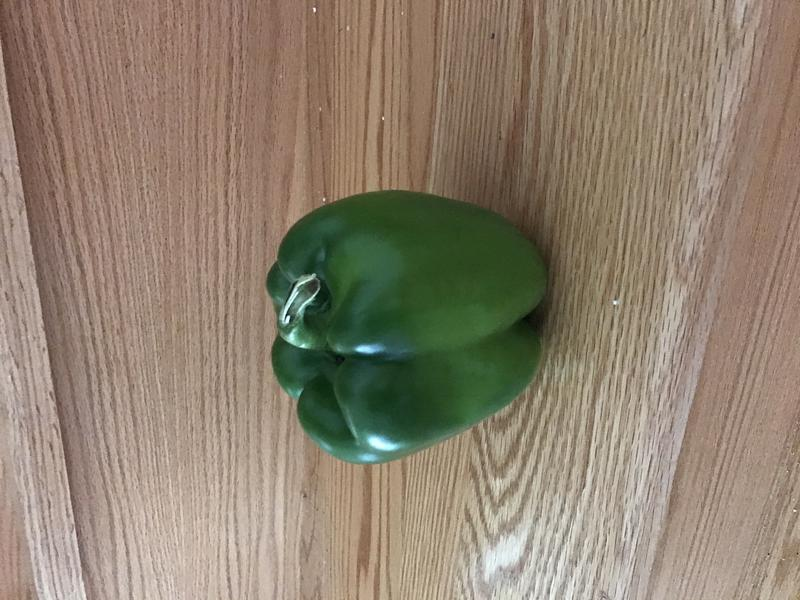green_pepper: (256, 178, 557, 480)
